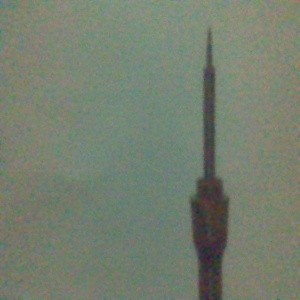solder: (189, 25, 231, 300)
